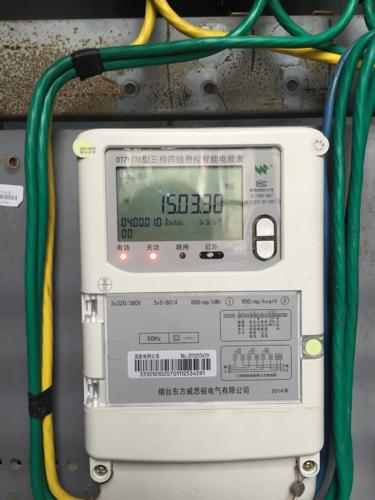digital: (78, 127, 325, 462)
